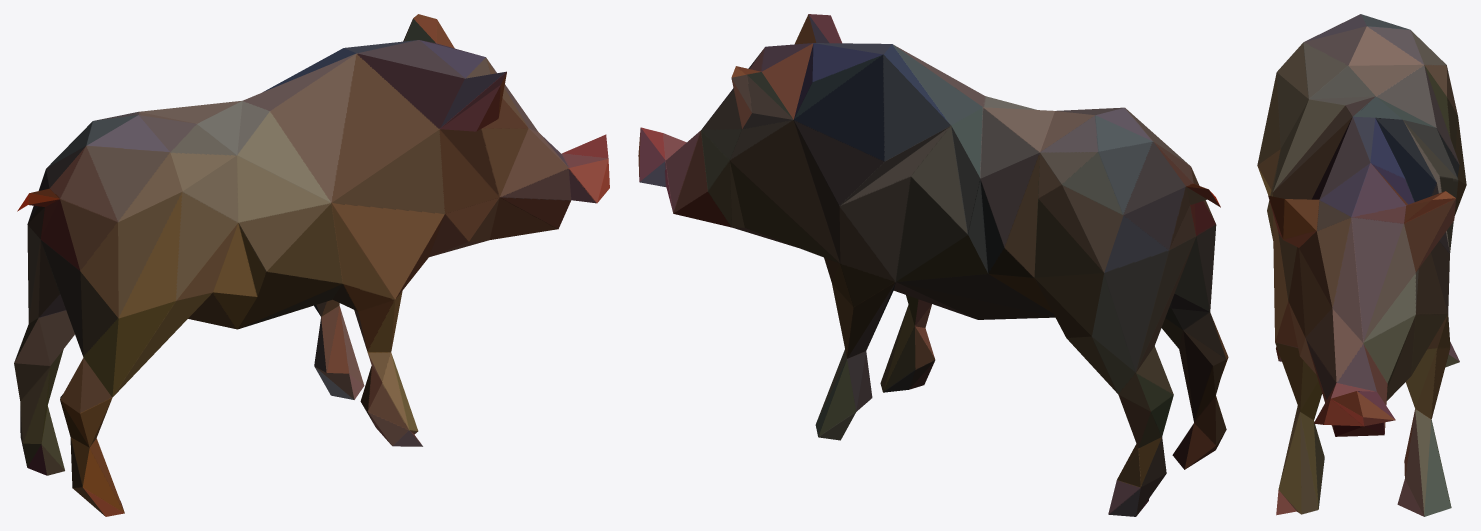
The model's file is boar.fbx.
The picture shows the model from 3 angles, left to right: view 1: azimuth 30°, elevation 25°; view 2: azimuth 150°, elevation 25°; view 3: azimuth 270°, elevation 25°; orthographic projection. The views are drawn at different scales.
Visible parts, largest first — view 1: Mesh_0; view 2: Mesh_0; view 3: Mesh_0.
Part boxes in pixels (x1,y1,x2,y2): Mesh_0: [14, 14, 609, 516]; Mesh_0: [638, 14, 1228, 516]; Mesh_0: [1257, 14, 1466, 516].
Size of the model in its own units: 153 by 93.76 by 46.08.
Materials: 1 (1 with a texture image).
